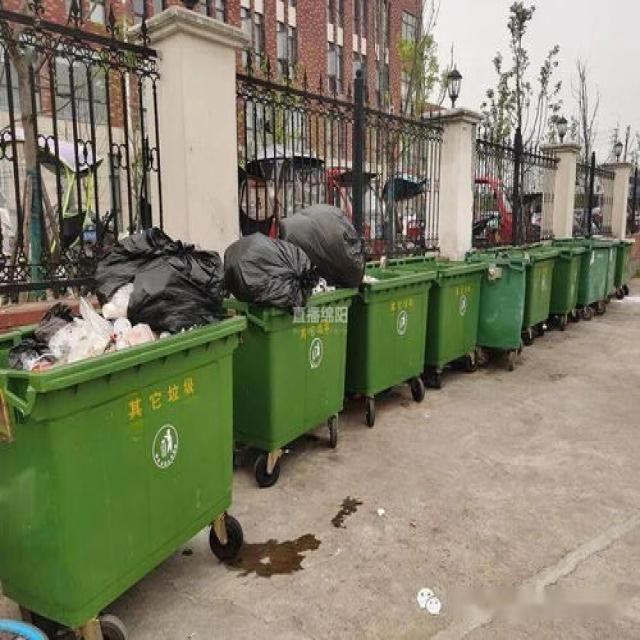garbage_bin: (369, 266, 434, 396), (429, 261, 485, 364), (470, 249, 527, 348), (524, 245, 558, 326), (578, 240, 612, 306), (550, 249, 584, 314), (613, 236, 634, 286)
overflow: (0, 223, 244, 626), (224, 204, 371, 450)
